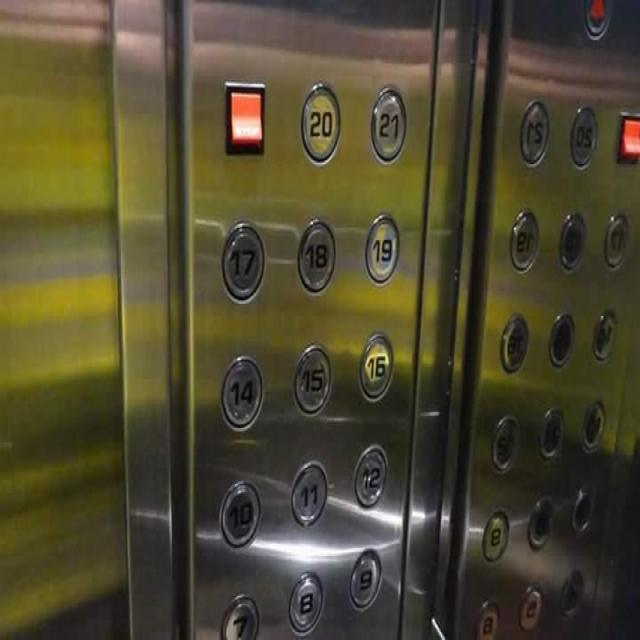10: (218, 472, 261, 552)
11: (286, 454, 328, 534)
12: (350, 439, 387, 513)
14: (220, 350, 262, 430)
15: (291, 338, 334, 418)
16: (356, 330, 396, 402)
17: (221, 217, 264, 303)
18: (294, 212, 338, 297)
19: (362, 209, 401, 287)
20: (298, 80, 341, 165)
21: (365, 80, 409, 165)
7: (220, 588, 259, 639)
8: (286, 568, 322, 637), (473, 596, 501, 639)
9: (348, 543, 384, 612)
empty: (558, 208, 588, 271), (546, 305, 576, 368), (536, 400, 566, 463), (525, 487, 555, 549), (556, 561, 584, 624), (569, 480, 596, 536)
switch: (220, 73, 268, 159)
unknown: (508, 205, 541, 278), (518, 96, 550, 168), (566, 96, 598, 168), (498, 304, 530, 376), (490, 408, 519, 479), (480, 505, 511, 568), (600, 208, 630, 271), (580, 392, 606, 453), (591, 303, 616, 364), (517, 582, 545, 630)
